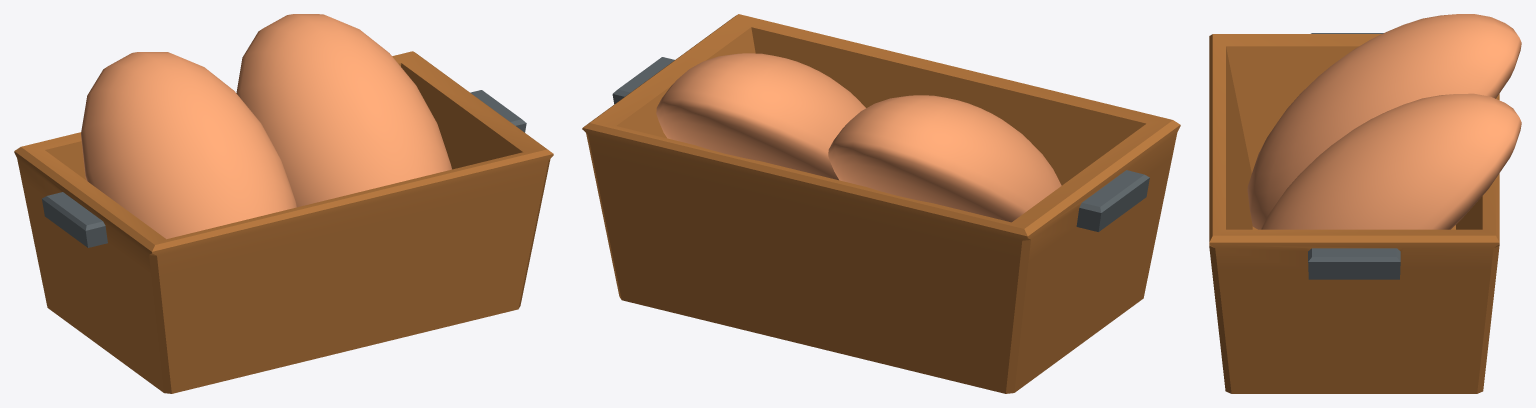
The model's file is PRP_FoodBasket.fbx.
3 renders of one model, left to right at view 1: azimuth 30°, elevation 25°; view 2: azimuth 150°, elevation 25°; view 3: azimuth 270°, elevation 25°, orthographic. The views are drawn at different scales.
Parts seen in each view (by area): view 1: pCube96; view 2: pCube96; view 3: pCube96.
Part boxes in pixels (x1,y1,x2,y2): pCube96: (14, 14, 553, 393); pCube96: (582, 14, 1180, 393); pCube96: (1209, 14, 1521, 393).
Size of the model in its own units: 1.05 by 0.5179 by 0.6094.
